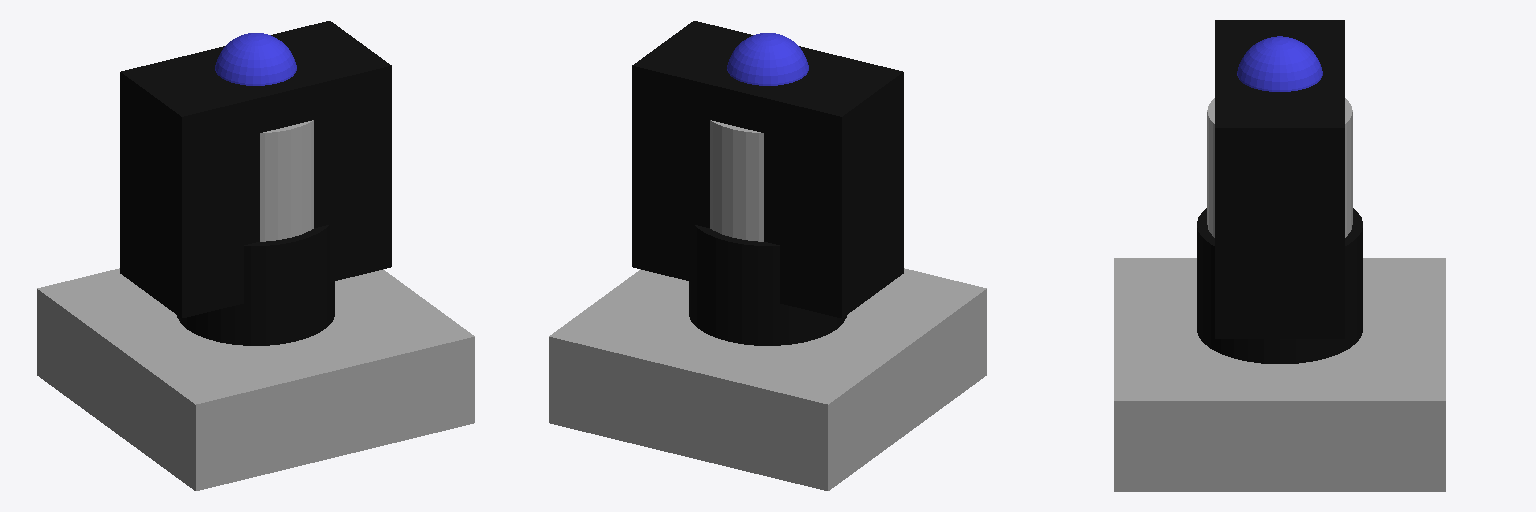
robot.urdf — evolved_robot:
<?xml version="1.0"?>
<robot name="evolved_robot">
  <material name="metal">
    <color rgba="0.7 0.7 0.7 1.0"/>
  </material>
  <material name="plastic">
    <color rgba="0.3 0.3 0.9 1.0"/>
  </material>
  <material name="rubber">
    <color rgba="0.1 0.1 0.1 1.0"/>
  </material>
  <material name="red">
    <color rgba="1.0 0.0 0.0 1.0"/>
  </material>
  <material name="wheel_material">
    <color rgba="0.2 0.2 0.2 1.0"/>
  </material>
  <link name="base_link">
    <visual>
      <geometry><box size="0.30694219765450376 0.30203459907369534 0.0911273215152773"/></geometry>
      <material name="metal"/>
    </visual>
    <collision>
      <geometry><box size="0.30694219765450376 0.30203459907369534 0.0911273215152773"/></geometry>
    </collision>
    <inertial>
      <mass value="5.0"/>
      <inertia ixx="0.08294090647013051" ixy="0" ixz="0" 
               iyy="0.08543141785627097" iyz="0" 
               izz="0.15453200978215362"/>
    </inertial>
  </link>
  <link name="link1">
    <visual>
      <geometry><cylinder radius="0.07570620283655916" length="0.20992373954302018"/></geometry>
      <material name="rubber"/>
    </visual>
    <collision>
      <geometry><cylinder radius="0.07570620283655916" length="0.20992373954302018"/></geometry>
    </collision>
    <inertial>
      <mass value="0.5"/>
      <inertia ixx="0.005105188655626374" ixy="0" ixz="0" 
               iyy="0.005105188655626374" iyz="0" 
               izz="0.0028657145739651186"/>
    </inertial>
  </link>
  <joint name="joint1" type="prismatic">
    <parent link="base_link"/>
    <child link="link1"/>
    <origin xyz="0 0 0.04556366075763865" rpy="0 0 0"/>
    <axis xyz="-0.0067937694288004455 0.8570903370472414 -0.5151213437989097"/>
    <dynamics damping="0.8837598170592937" friction="0.1"/>
    <limit lower="-2.1351153062304555" upper="0.942" effort="100" velocity="100"/>
  </joint>
  <link name="link2">
    <visual>
      <geometry>
        <cylinder radius="0.05414362154083399" length="0.04821138832144219"/>
      </geometry>
      <material name="wheel_material"/>
    </visual>
    <collision>
      <geometry>
        <cylinder radius="0.05414362154083399" length="0.04821138832144219"/>
      </geometry>
    </collision>
    <inertial>
      <mass value="1.0"/>
      <inertia ixx="0.0009265777687126733" ixy="0" ixz="0" 
               iyy="0.0009265777687126733" iyz="0" 
               izz="0.0014657658767785312"/>
    </inertial>
  </link>
  <joint name="joint2" type="continuous">
    <parent link="base_link"/>
    <child link="link2"/>
    <origin xyz="0 0 0" rpy="1.5708 0 0"/>
    <axis xyz="0 0 1"/>
    <dynamics damping="0.22772052215840985" friction="0.1"/>
  </joint>
  <link name="link3">
    <visual>
      <geometry><sphere radius="0.027872111082802867"/></geometry>
      <material name="plastic"/>
    </visual>
    <collision>
      <geometry><sphere radius="0.027872111082802867"/></geometry>
    </collision>
    <inertial>
      <mass value="0.5"/>
      <inertia ixx="0.00031074183048484096" ixy="0" ixz="0" 
               iyy="0.00031074183048484096" iyz="0" 
               izz="0.00031074183048484096"/>
    </inertial>
  </link>
  <joint name="joint3" type="fixed">
    <parent link="base_link"/>
    <child link="link3"/>
    <origin xyz="0 0 0.09556366075763865" rpy="0 0 0"/>
    <axis xyz="-0.8846278413237126 -0.24849014531278035 0.3945709442386524"/>
    <dynamics damping="0.8006336577116039" friction="0.1"/>
  </joint>
  <link name="link4">
    <visual>
      <geometry><cylinder radius="0.06603368923843765" length="0.23730455389415234"/></geometry>
      <material name="metal"/>
    </visual>
    <collision>
      <geometry><cylinder radius="0.06603368923843765" length="0.23730455389415234"/></geometry>
    </collision>
    <inertial>
      <mass value="0.5"/>
      <inertia ixx="0.005782899636851527" ixy="0" ixz="0" 
               iyy="0.005782899636851527" iyz="0" 
               izz="0.002180224057219278"/>
    </inertial>
  </link>
  <joint name="joint4" type="revolute">
    <parent link="base_link"/>
    <child link="link4"/>
    <origin xyz="0 0 0.14556366075763866" rpy="0 0 0"/>
    <axis xyz="0.009749073941094217 -0.7783116469636401 0.6278024655558762"/>
    <dynamics damping="0.30098287863004475" friction="0.1"/>
    <limit lower="-1.7542596570890534" upper="0.3130250528643158" effort="100" velocity="100"/>
  </joint>
  <link name="link5">
    <visual>
      <geometry><box size="0.2304896288690484 0.11746502475873695 0.21169919374858331"/></geometry>
      <material name="rubber"/>
    </visual>
    <collision>
      <geometry><box size="0.2304896288690484 0.11746502475873695 0.21169919374858331"/></geometry>
    </collision>
    <inertial>
      <mass value="0.5"/>
      <inertia ixx="0.004884548389614242" ixy="0" ixz="0" 
               iyy="0.00816183480416599" iyz="0" 
               izz="0.005576958421480195"/>
    </inertial>
  </link>
  <joint name="joint5" type="fixed">
    <parent link="base_link"/>
    <child link="link5"/>
    <origin xyz="0 0 0.19556366075763867" rpy="0 0 0"/>
    <axis xyz="0.6786232439561107 0.3567641349033571 0.6420201280405032"/>
    <dynamics damping="0.3688987113063372" friction="0.1"/>
  </joint>
  <link name="link6">
    <visual>
      <geometry><cylinder radius="0.05715662929169568" length="0.06049280912689717"/></geometry>
      <material name="metal"/>
    </visual>
    <collision>
      <geometry><cylinder radius="0.05715662929169568" length="0.06049280912689717"/></geometry>
    </collision>
    <inertial>
      <mass value="0.5"/>
      <inertia ixx="0.0011216683976690157" ixy="0" ixz="0" 
               iyy="0.0011216683976690157" iyz="0" 
               izz="0.0016334401359941624"/>
    </inertial>
  </link>
  <joint name="joint6" type="fixed">
    <parent link="base_link"/>
    <child link="link6"/>
    <origin xyz="0 0 0.24556366075763866" rpy="0 0 0"/>
    <axis xyz="-0.8813528690894579 -0.15222645485110534 -0.4472630395988982"/>
    <dynamics damping="0.8598203663009973" friction="0.1"/>
  </joint>
  <link name="link7">
    <visual>
      <geometry><sphere radius="0.039596238410711394"/></geometry>
      <material name="plastic"/>
    </visual>
    <collision>
      <geometry><sphere radius="0.039596238410711394"/></geometry>
    </collision>
    <inertial>
      <mass value="0.5"/>
      <inertia ixx="0.0006271448385111586" ixy="0" ixz="0" 
               iyy="0.0006271448385111586" iyz="0" 
               izz="0.0006271448385111586"/>
    </inertial>
  </link>
  <joint name="joint7" type="revolute">
    <parent link="base_link"/>
    <child link="link7"/>
    <origin xyz="0 0 0.2955636607576386" rpy="0 0 0"/>
    <axis xyz="-0.9250142407436456 0.05193724612265832 -0.3763657488224071"/>
    <dynamics damping="0.1" friction="0.1"/>
    <limit lower="-1.3407345623772549" upper="0.0" effort="100" velocity="100"/>
  </joint>
</robot>

--- Render facts (derived) ---
Views: 3 orthographic renders of the robot side by side, from view 1: azimuth 30°, elevation 25°; view 2: azimuth 150°, elevation 25°; view 3: azimuth 270°, elevation 25°.
Model evolved_robot with 8 links and 7 joints (2 revolute, 1 continuous, 1 prismatic, 3 fixed), rooted at base_link, posed all joints at 0.
Visible links, largest first — view 1: base_link, link5, link1, link4, link7; view 2: base_link, link5, link1, link4, link7; view 3: base_link, link5, link1, link7, link4.
Link boxes in pixels (x1,y1,x2,y2): base_link: (37, 268, 474, 490); link5: (120, 21, 391, 317); link1: (177, 225, 334, 345); link4: (260, 120, 313, 241); link7: (215, 33, 296, 85); base_link: (549, 268, 986, 490); link5: (632, 21, 903, 317); link1: (689, 225, 846, 345); link4: (710, 120, 763, 241); link7: (727, 33, 808, 85); base_link: (1114, 258, 1445, 491); link5: (1215, 20, 1344, 338); link1: (1197, 208, 1362, 363); link7: (1237, 36, 1322, 91); link4: (1207, 98, 1352, 237).
Size in the robot's own frame: 0.3069 by 0.302 by 0.3946 metres.
Geometry: primitives only (box / cylinder / sphere), no mesh files.